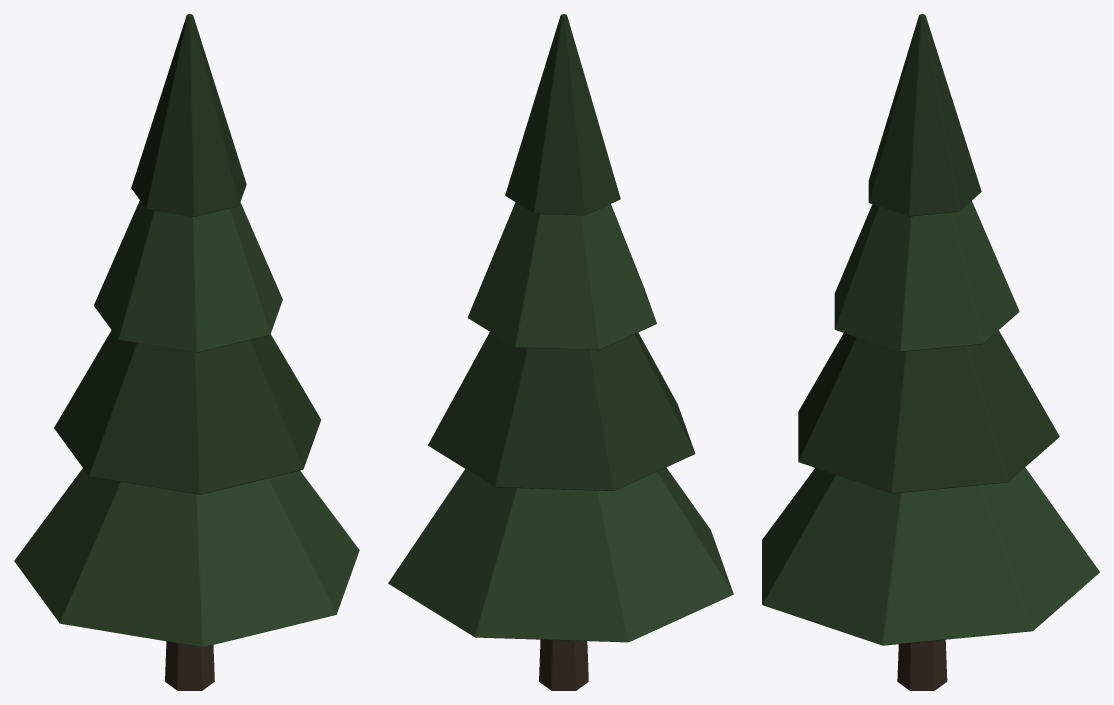
Rendered from V_Arbre_Conifere.glb.
The picture shows the model from 3 angles, left to right: view 1: azimuth 30°, elevation 25°; view 2: azimuth 150°, elevation 25°; view 3: azimuth 270°, elevation 25°; orthographic projection.
Parts seen in each view (by area): view 1: V_Arbre_Conifere; view 2: V_Arbre_Conifere; view 3: V_Arbre_Conifere.
Boxes of the visible parts, x1=… form: V_Arbre_Conifere: x1=14, y1=14, x2=359, y2=690; V_Arbre_Conifere: x1=388, y1=14, x2=733, y2=690; V_Arbre_Conifere: x1=762, y1=14, x2=1099, y2=690.
Size of the model in its own units: 3.01 by 6.4 by 2.94.
